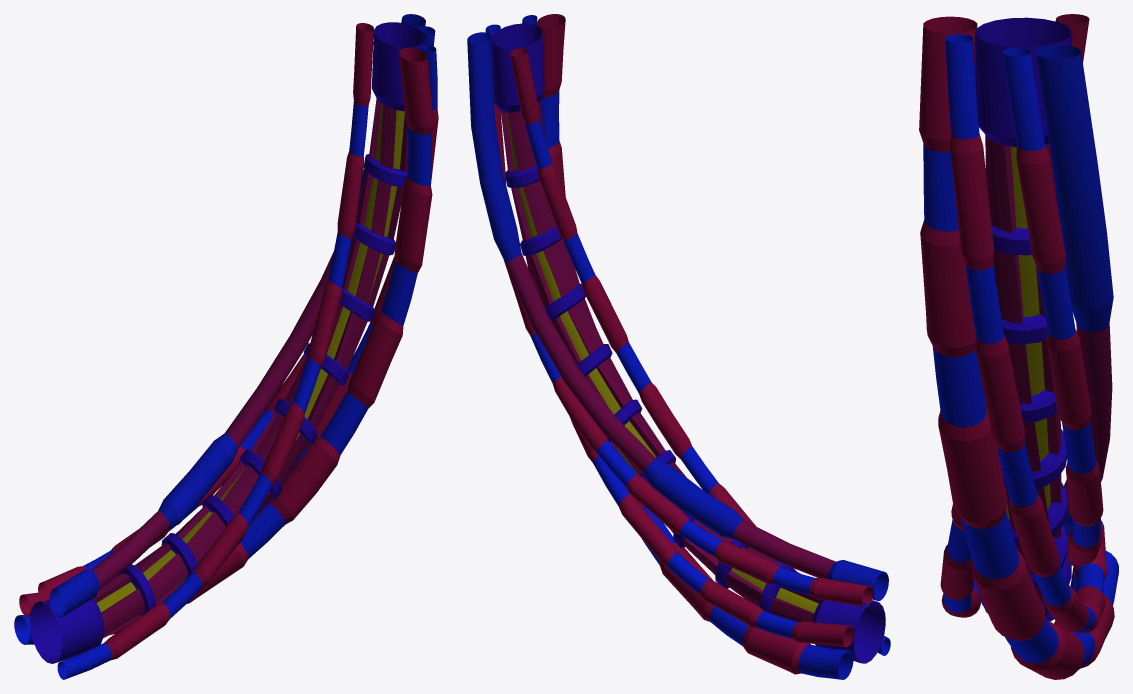
The model's file is OBJ_1_Cable.fbx.
3 renders of one model, left to right at view 1: azimuth 30°, elevation 25°; view 2: azimuth 150°, elevation 25°; view 3: azimuth 270°, elevation 25°, orthographic. The views are drawn at different scales.
Visible parts, largest first — view 1: OBJ_1_Cable; view 2: OBJ_1_Cable; view 3: OBJ_1_Cable.
Part boxes in pixels (left/top/right/bottom): OBJ_1_Cable: left=14, top=14, right=438, bottom=679; OBJ_1_Cable: left=467, top=14, right=890, bottom=679; OBJ_1_Cable: left=919, top=14, right=1118, bottom=679.
Size of the model in its own units: 5.84 by 7.86 by 1.71.
